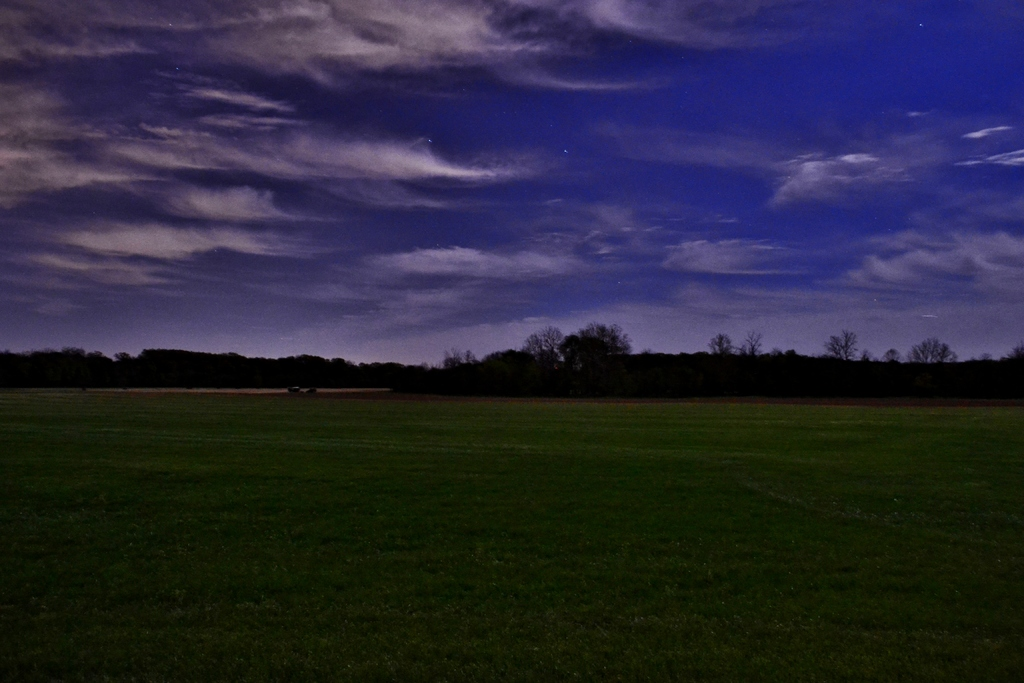Tree: (0, 326, 902, 394), (906, 335, 954, 364)
